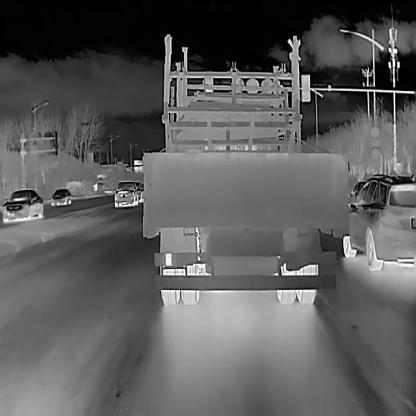car: (342, 172, 416, 270), (2, 187, 44, 223), (111, 180, 138, 208), (48, 186, 72, 207)
truck: (140, 81, 348, 304)
